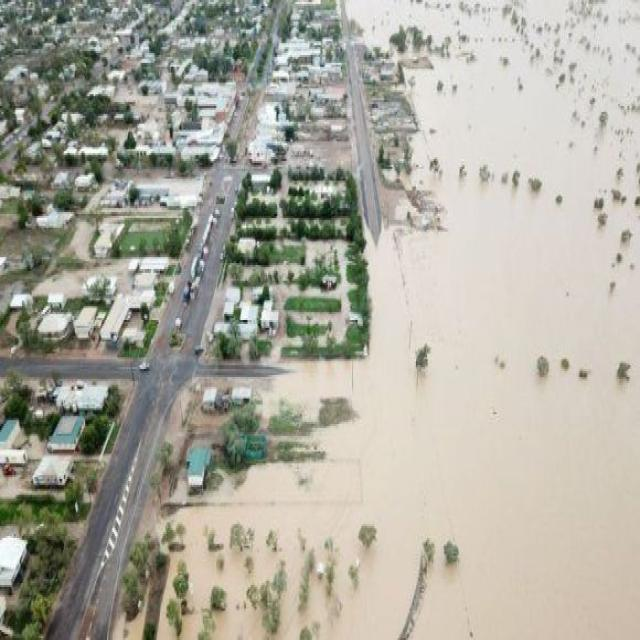flooded_areas: (180, 0, 621, 638)
